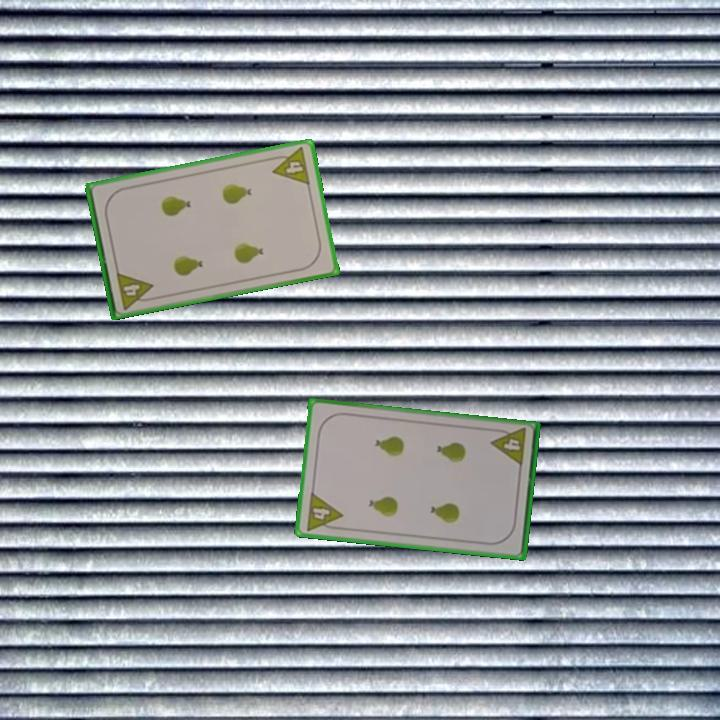4p: (267, 144, 313, 188), (113, 268, 157, 312), (302, 489, 345, 534), (488, 424, 529, 469)
